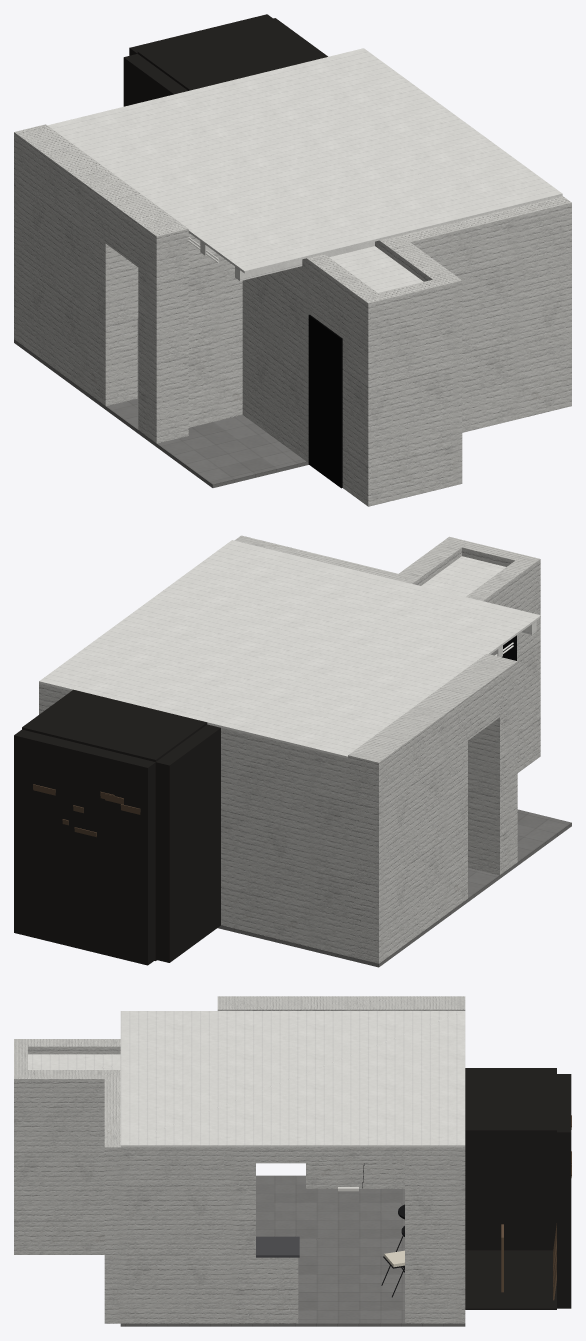
The model's file is r2-room.glb.
3 views of the same model, one above another, from view 1: azimuth 30°, elevation 25°; view 2: azimuth 150°, elevation 25°; view 3: azimuth 270°, elevation 25° (orthographic). The views are drawn at different scales.
Parts seen in each view (by area): view 1: R2_Walls_Whitewashed, R2_Ceiling_Boards, R2_Storage_Room_Dark, R2_Floor_Tiles, R2_Corridor_ToiletDoor_Dark, R2_Ceiling_Joists; view 2: R2_Walls_Whitewashed, R2_Ceiling_Boards, R2_Storage_Room_Dark, R2_Floor_Tiles; view 3: R2_Walls_Whitewashed, R2_Ceiling_Boards, R2_Storage_Room_Dark, R2_Floor_Tiles, R2_PassThrough_Slab, R2_Bistro_Tables_Folding_Chairs.
Part boxes in pixels (x1,y1,x2,y2): R2_Walls_Whitewashed: (14,124,571,506); R2_Ceiling_Boards: (47,48,562,292); R2_Storage_Room_Dark: (123,14,327,106); R2_Floor_Tiles: (14,318,308,487); R2_Corridor_ToiletDoor_Dark: (308,314,342,488); R2_Ceiling_Joists: (200,241,374,280); R2_Walls_Whitewashed: (39,535,540,963); R2_Ceiling_Boards: (39,540,540,758); R2_Storage_Room_Dark: (14,689,220,965); R2_Floor_Tiles: (218,809,571,967); R2_Walls_Whitewashed: (14,996,465,1323); R2_Ceiling_Boards: (28,1011,465,1147); R2_Storage_Room_Dark: (465,1068,571,1309); R2_Floor_Tiles: (120,1175,465,1326); R2_PassThrough_Slab: (256,1236,299,1257); R2_Bistro_Tables_Folding_Chairs: (381,1204,404,1297).
Size of the model in its own units: 5.02 by 2.85 by 7.89.
24 materials, 4 textured.
